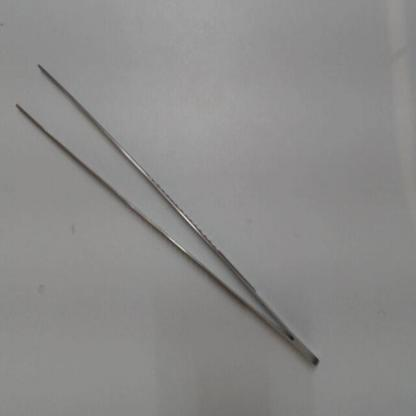DeBakey Dissector: (8, 46, 326, 377)
